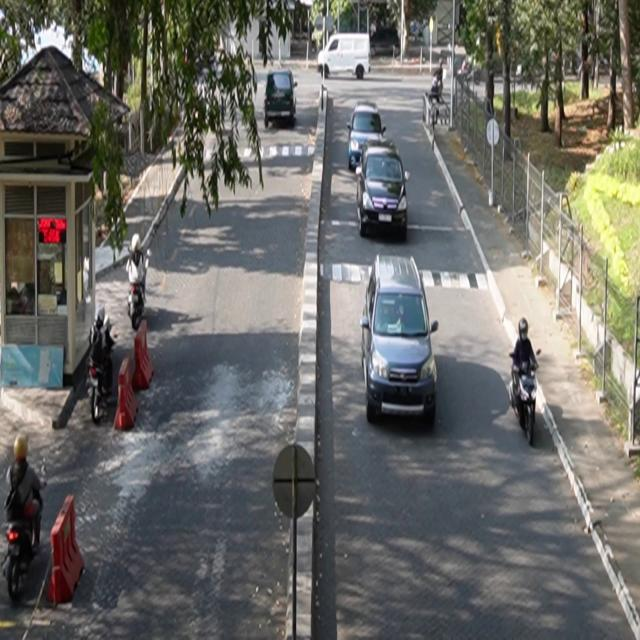car: (361, 254, 440, 426), (356, 138, 411, 240), (347, 101, 387, 172), (264, 70, 299, 129)
truck: (318, 33, 372, 81)
